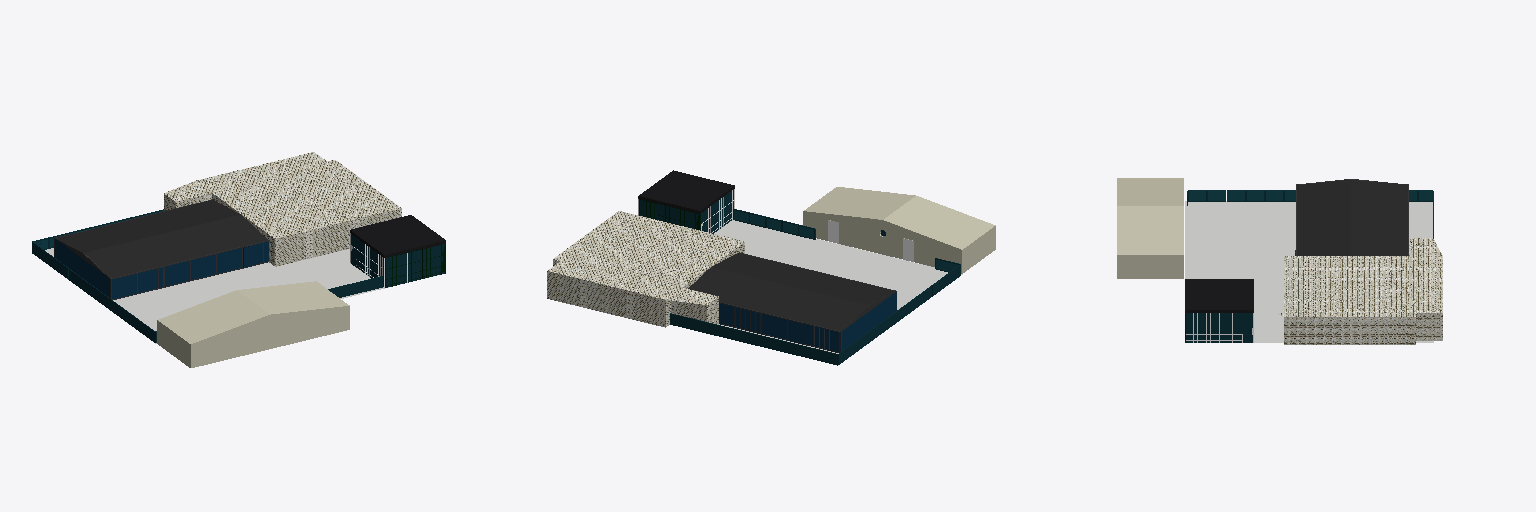
The picture shows the model from 3 angles: view 1: azimuth 30°, elevation 25°; view 2: azimuth 150°, elevation 25°; view 3: azimuth 270°, elevation 25°; orthographic projection.
Visible parts, largest first — view 1: Шелк_вверанда; view 2: Шелк_вверанда; view 3: Шелк_вверанда.
Part boxes in pixels (x1,y1,x2,y2): Шелк_вверанда: (32, 152, 445, 367); Шелк_вверанда: (547, 170, 995, 365); Шелк_вверанда: (1117, 178, 1442, 344).
Size of the model in its own units: 35.93 by 4.04 by 34.36.
17 materials, 1 textured.